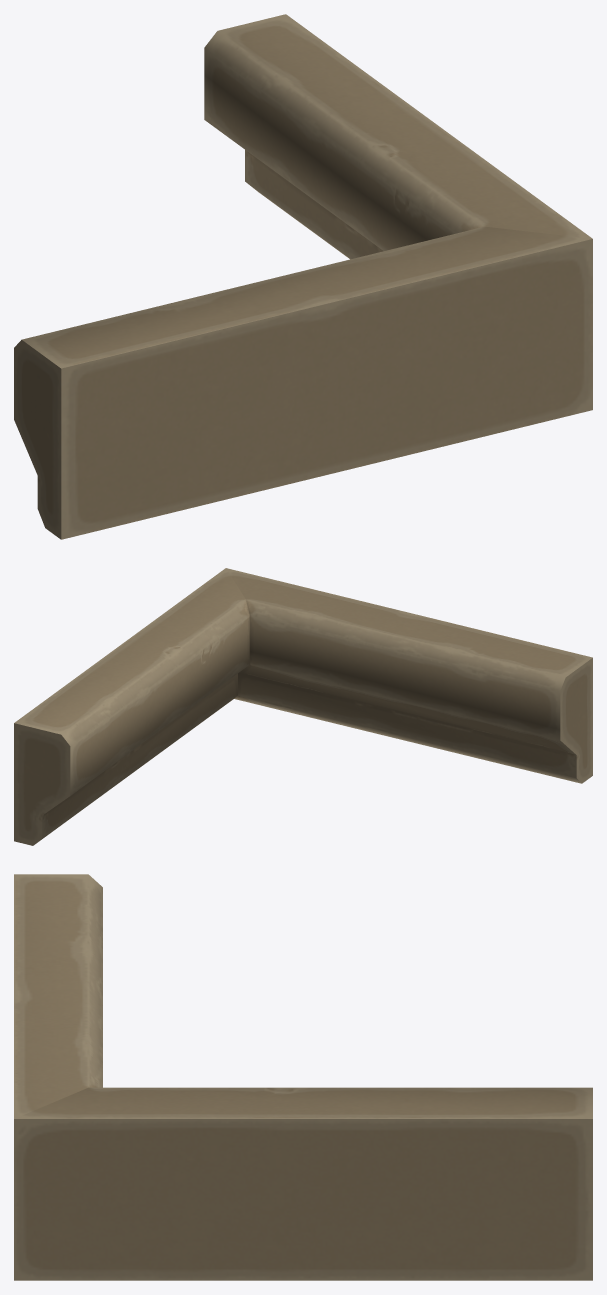
The model's file is ARC0510053.fbx.
3 renders of one model, top to bottom at view 1: azimuth 30°, elevation 25°; view 2: azimuth 150°, elevation 25°; view 3: azimuth 270°, elevation 25°, orthographic. The views are drawn at different scales.
Visible parts, largest first — view 1: smARC0510053; view 2: smARC0510053; view 3: smARC0510053.
Boxes of the visible parts, left/top/right/bottom form: smARC0510053: left=14, top=14, right=592, bottom=539; smARC0510053: left=14, top=568, right=592, bottom=845; smARC0510053: left=14, top=874, right=592, bottom=1280.
Size of the model in its own units: 130 by 40 by 130.
Materials: 1 (1 with a texture image).
